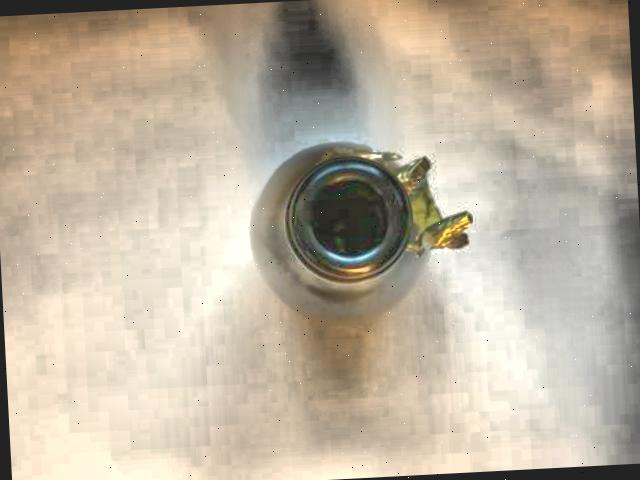Bottles: (216, 125, 494, 361)
